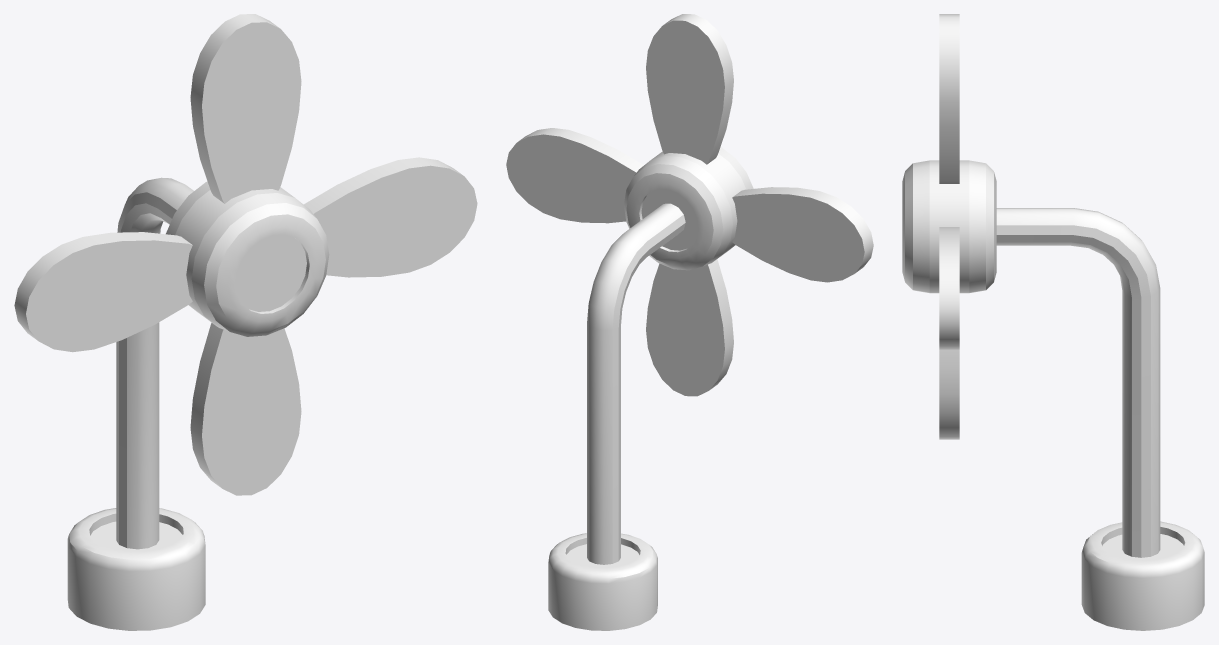
Rendered from wind mill.fbx.
The picture shows the model from 3 angles, left to right: view 1: azimuth 30°, elevation 25°; view 2: azimuth 150°, elevation 25°; view 3: azimuth 270°, elevation 25°; orthographic projection. The views are drawn at different scales.
Visible parts, largest first — view 1: Cylinder.014, Cylinder.008; view 2: Cylinder.014, Cylinder.008; view 3: Cylinder.008, Cylinder.014.
Part boxes in pixels (x1,y1,x2,y2): Cylinder.014: (14, 14, 477, 495); Cylinder.008: (67, 177, 329, 630); Cylinder.014: (506, 14, 873, 396); Cylinder.008: (548, 147, 753, 630); Cylinder.008: (902, 160, 1204, 630); Cylinder.014: (929, 14, 969, 439).
Size of the model in its own units: 0.485 by 0.6807 by 0.3176.
